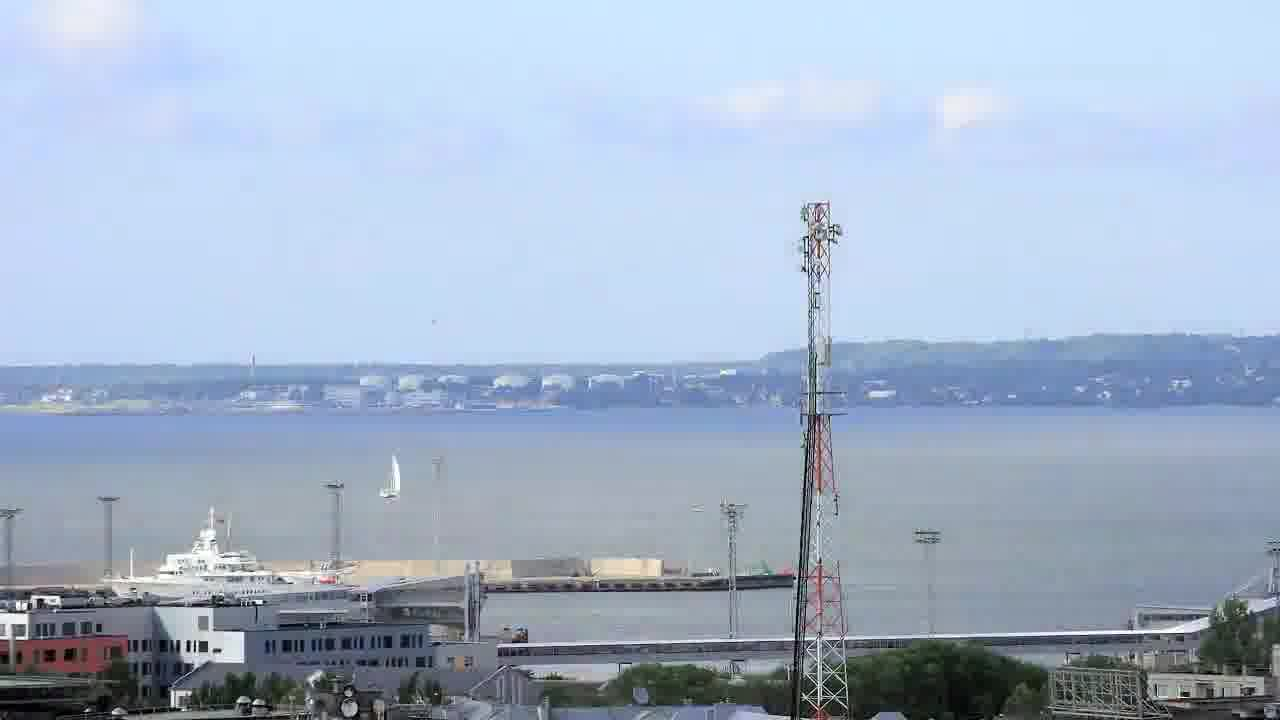type-2: (361, 451, 414, 512)
type-3: (84, 515, 355, 603)
